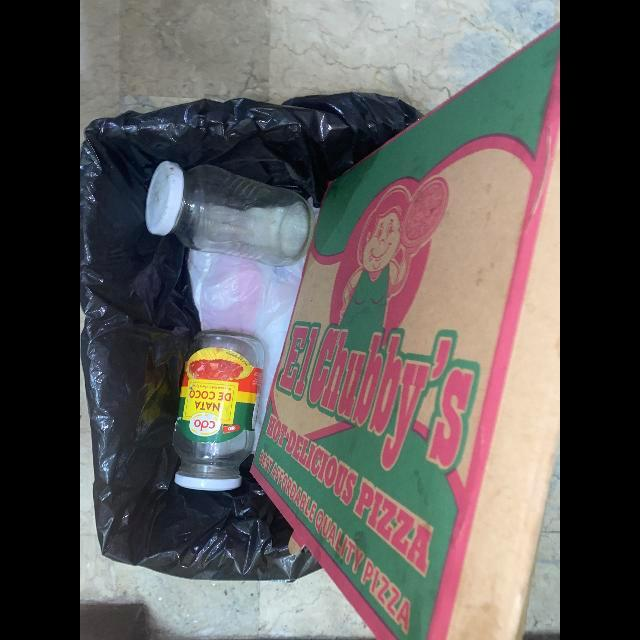cardboard: (251, 22, 560, 640)
glass_bottle: (145, 161, 315, 268), (172, 330, 265, 492)
